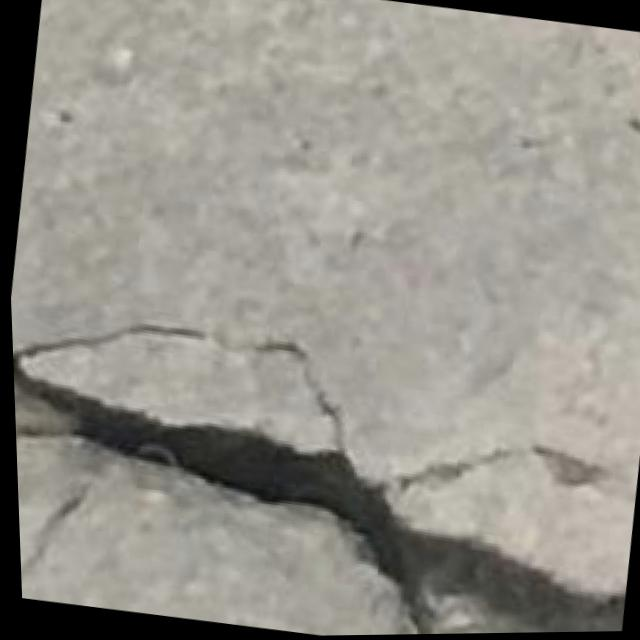Crack: (8, 285, 640, 640)
